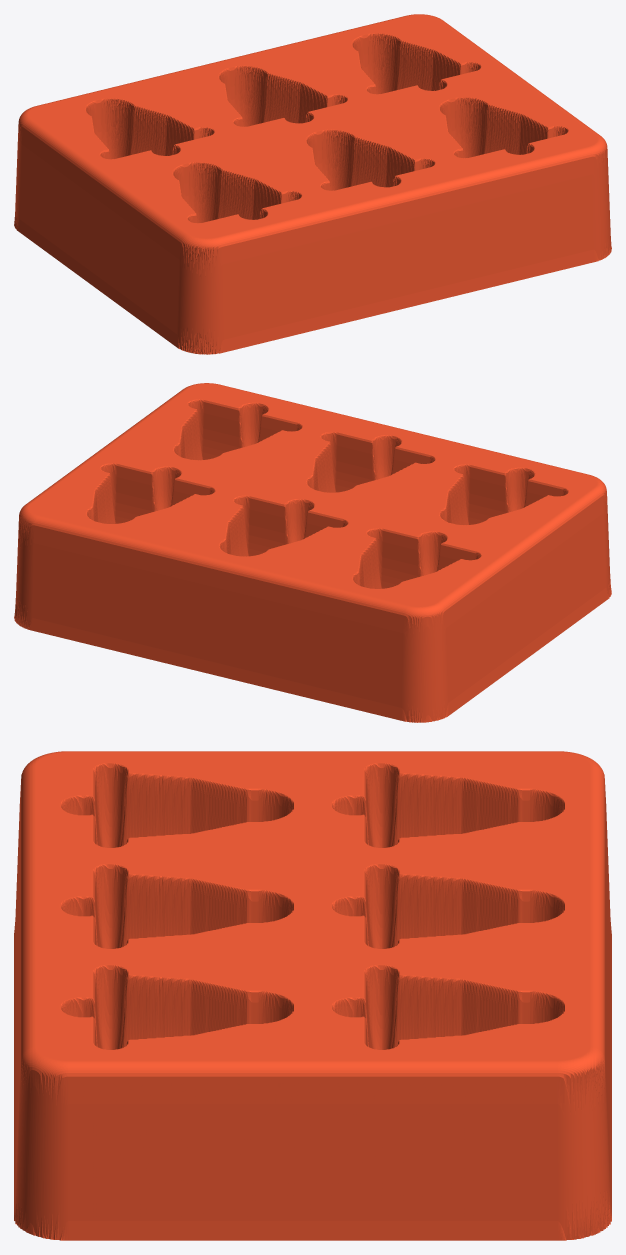
The model's file is mold.glb.
3 views of the same model, one above another, from view 1: azimuth 30°, elevation 25°; view 2: azimuth 150°, elevation 25°; view 3: azimuth 270°, elevation 25° (orthographic). The views are drawn at different scales.
Visible parts, largest first — view 1: geometry_0; view 2: geometry_0; view 3: geometry_0.
Boxes of the visible parts, x1,y1,x2,y2 form: geometry_0: [14, 14, 611, 354]; geometry_0: [14, 383, 611, 722]; geometry_0: [14, 751, 611, 1240].
Size of the model in its own units: 0.1286 by 0.0314 by 0.0996.
